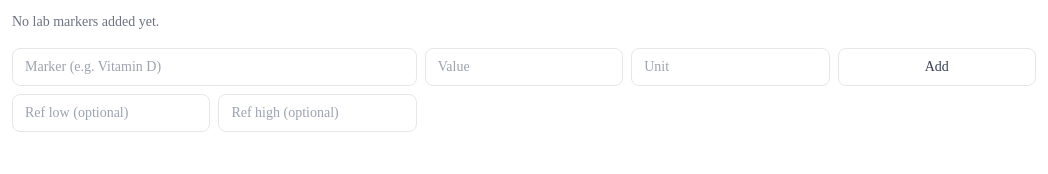
LabMarkerTable — an empty field is never a 0 (U22, N-116) › rejects an empty Value with the existing message and sends nothing
This screenshot has width=1048, height=174.
Type "Dragon Enzyme" into the field with placeholder "Marker (e.g. Vitamin D)" at (214, 67), box [12, 48, 417, 86]
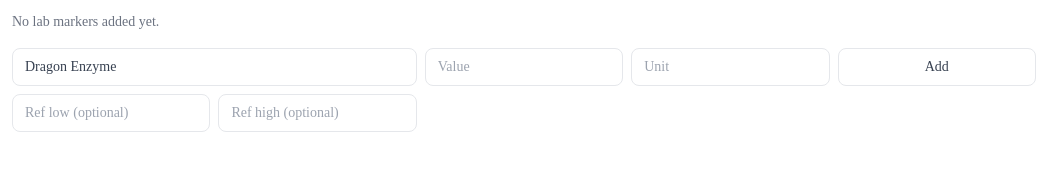
Type "U/L" into the field with placeholder "Unit" at (730, 67), box [631, 48, 830, 86]
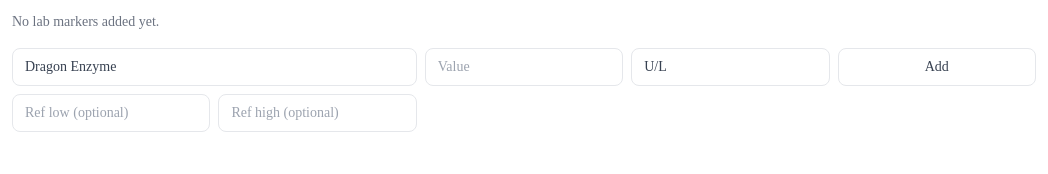
Click the button "Add" at (937, 67), box [838, 48, 1036, 86]
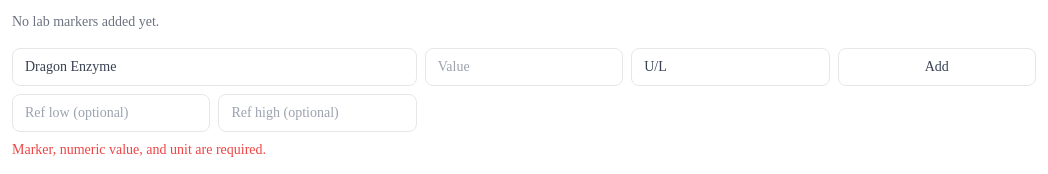
Expected: the text "Marker, numeric value, and unit are required." is shown, [12, 142, 266, 157]
